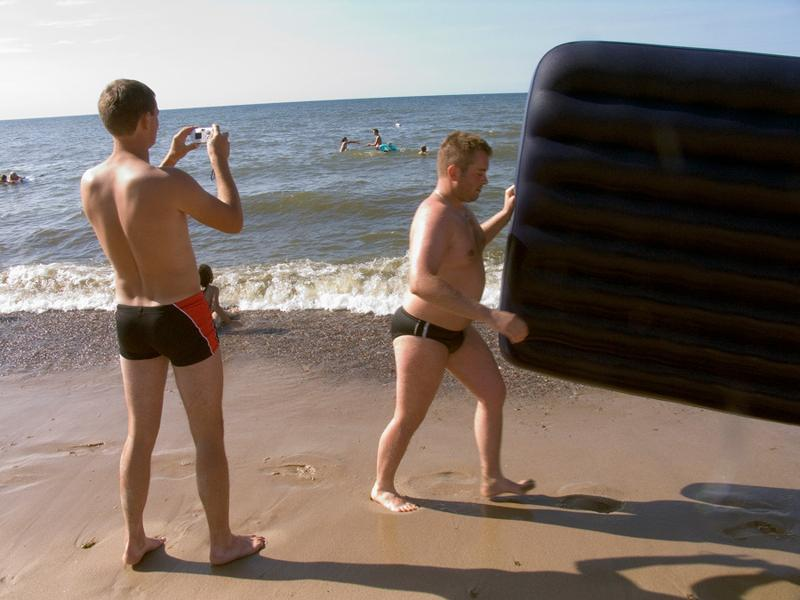person: (79, 78, 268, 570)
